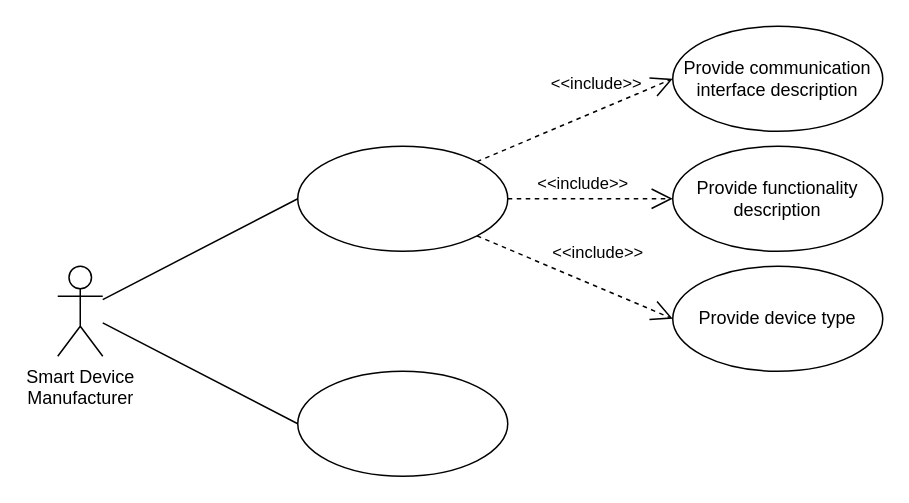
The diagram is 909 pixels wide and 503 high, and some of its shapes have lost their labels. Each missing label, with the centre of its shape:
"Add new smart device to database" goes at point 402,198.
"Add new smart device type to database" goes at point 402,423.
